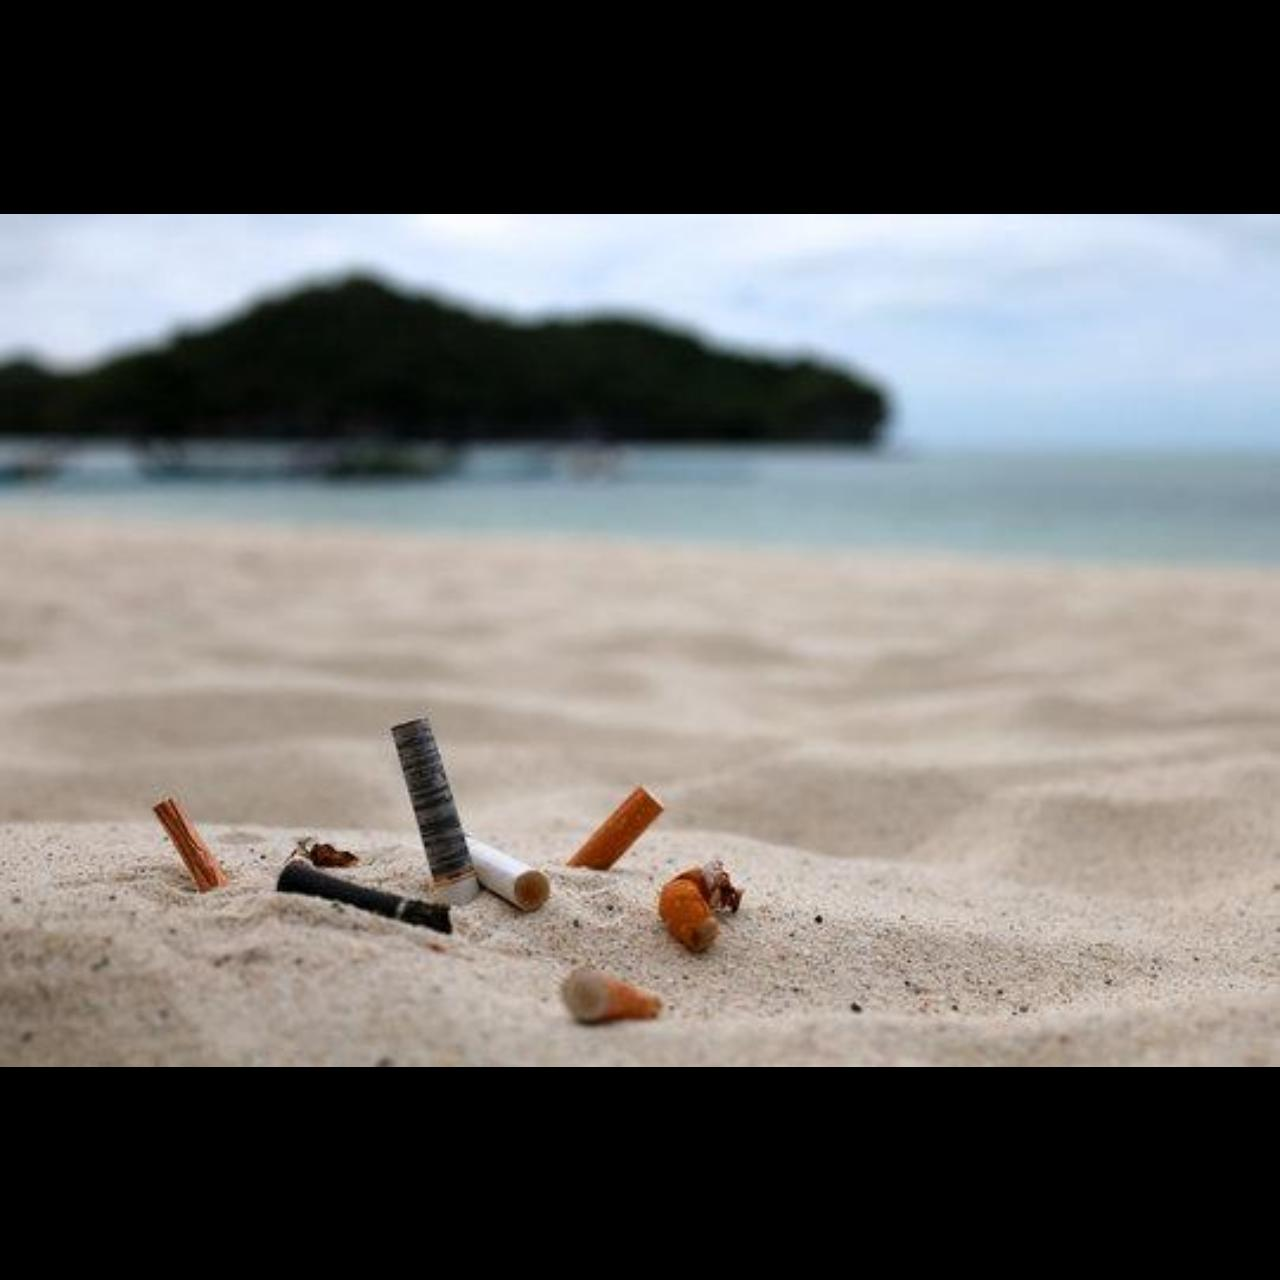cigarettes_butts: (391, 716, 479, 908), (565, 784, 665, 870), (657, 860, 746, 953), (466, 835, 550, 910), (562, 967, 661, 1020)
